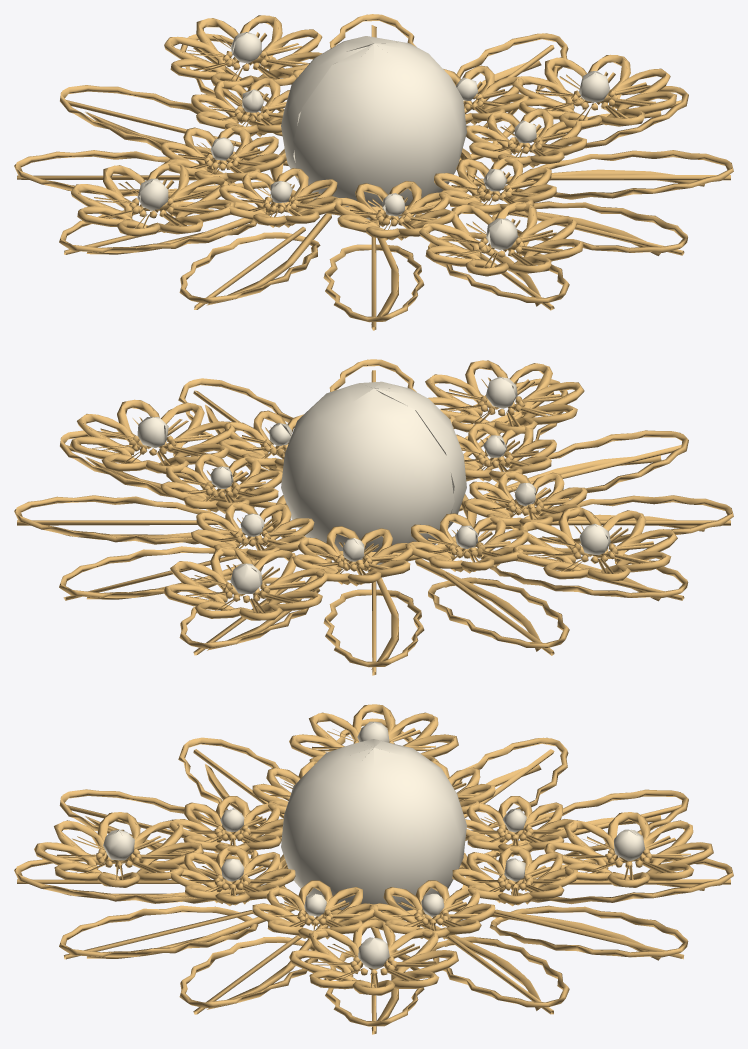
File: jewel-small.glb
3 views of the same model, one above another, from view 1: azimuth 30°, elevation 25°; view 2: azimuth 150°, elevation 25°; view 3: azimuth 270°, elevation 25° (orthographic).
Parts seen in each view (by area): view 1: jewel craftwork; view 2: jewel craftwork; view 3: jewel craftwork.
Boxes of the visible parts, left/top/right/bottom form: jewel craftwork: left=14, top=14, right=733, bottom=330; jewel craftwork: left=14, top=359, right=733, bottom=675; jewel craftwork: left=14, top=704, right=733, bottom=1034.
Bounding box in the file's own units: 0.5648 × 0.1503 × 0.5648.
